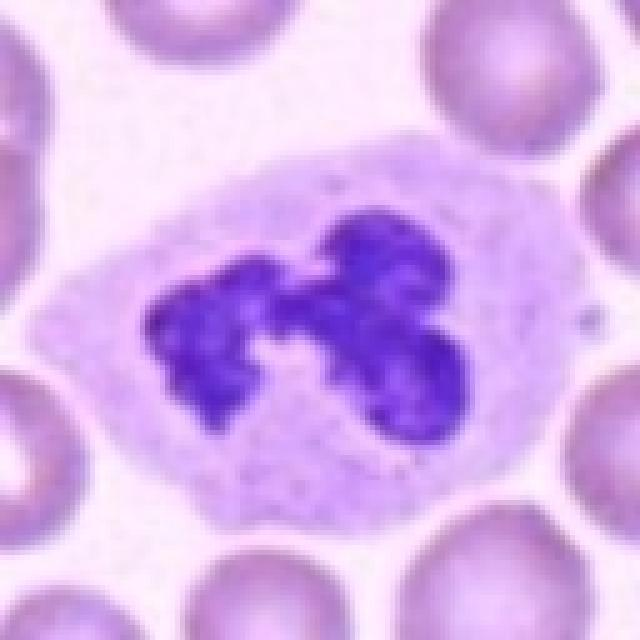neutro: (65, 92, 561, 555)
